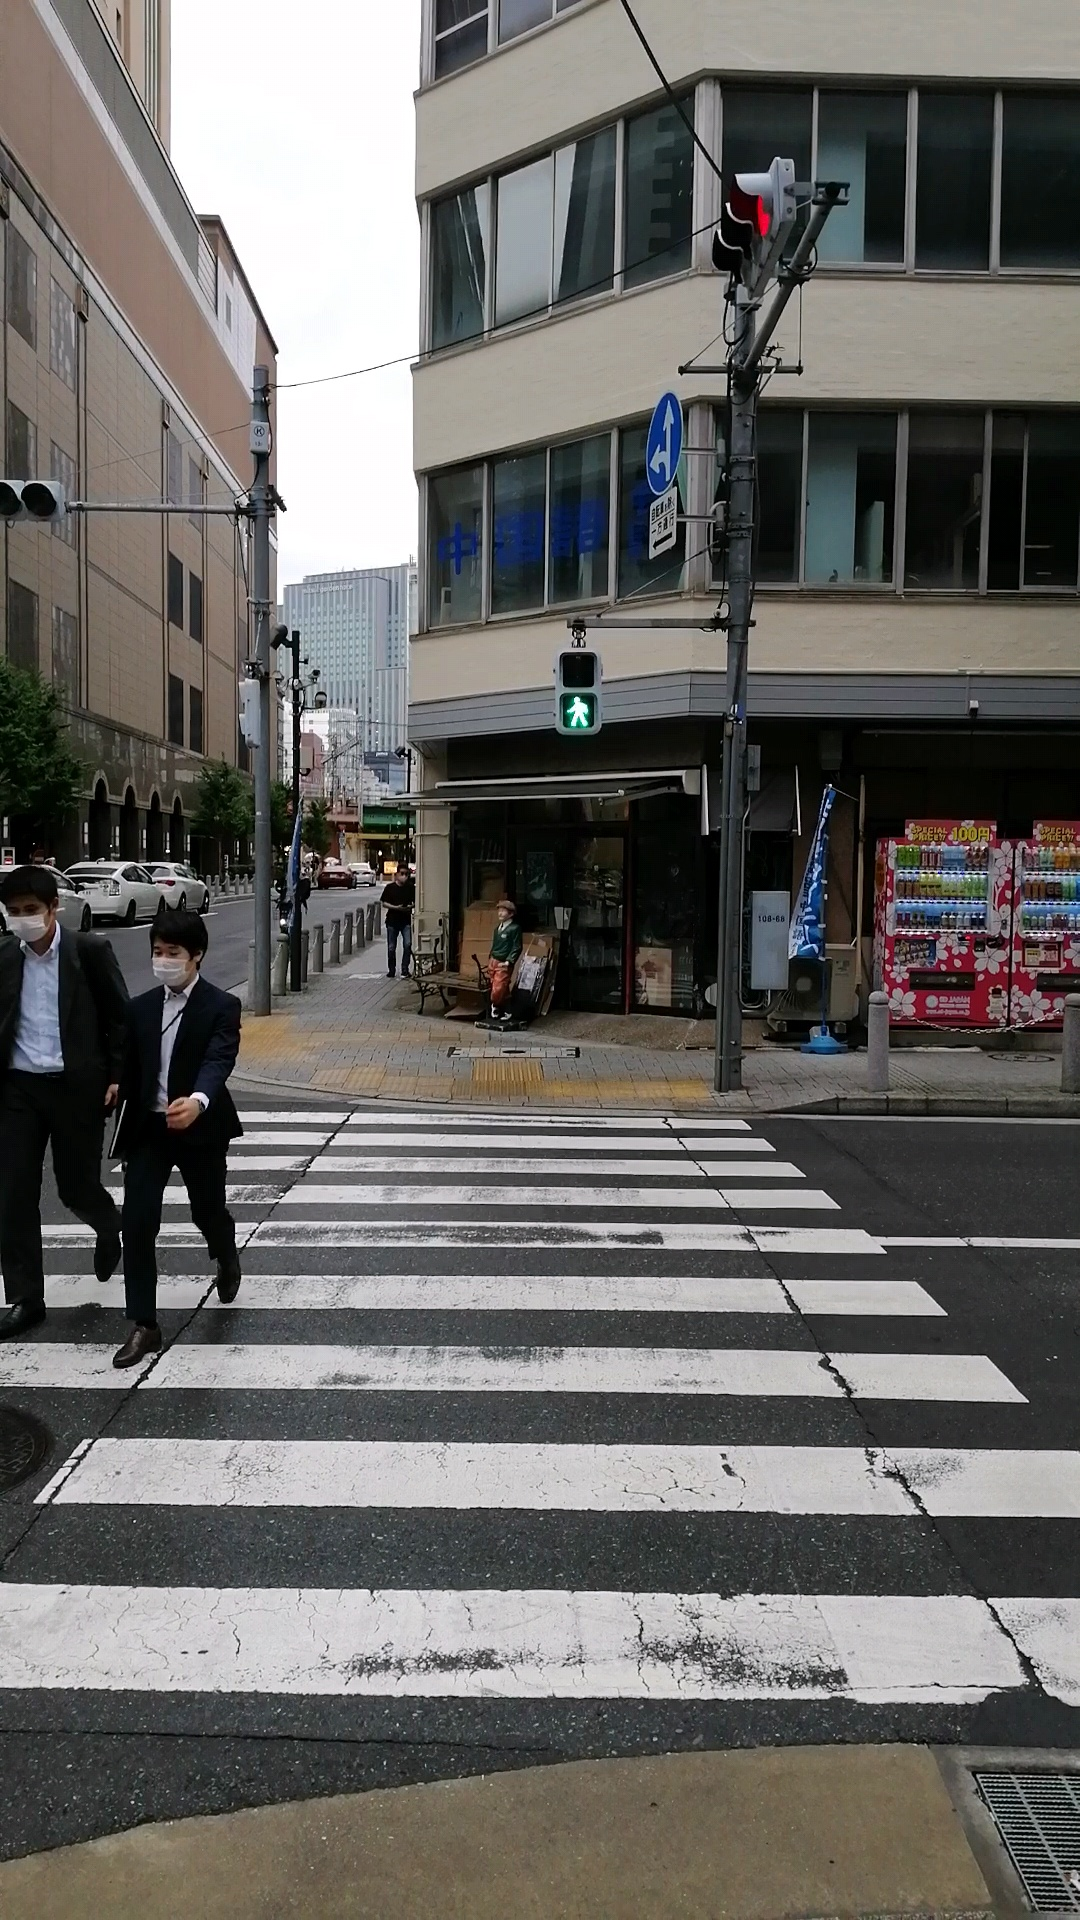green: (554, 649, 603, 735)
